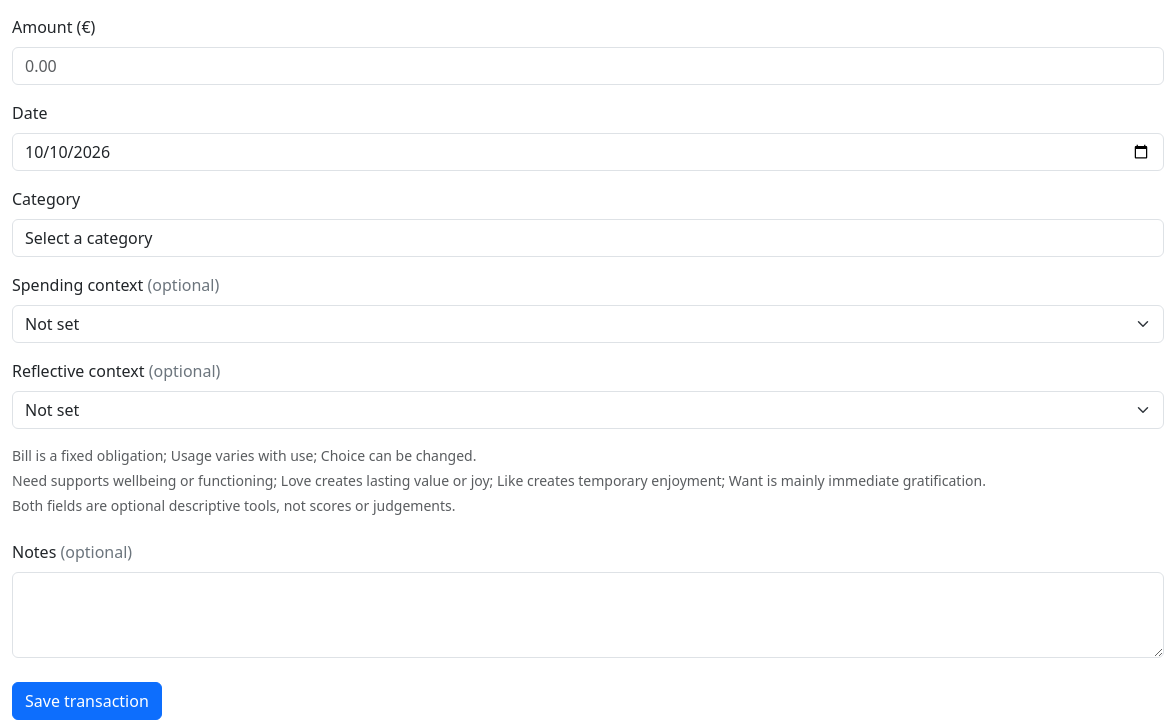
Test: TransactionForm › shows accessible client validation errors for required fields
(page scrolled)
What coordinates should you click on to do the following:
click the button "Save transaction"
I would click on:
 (87, 701)
Its box is [12,682,162,719].
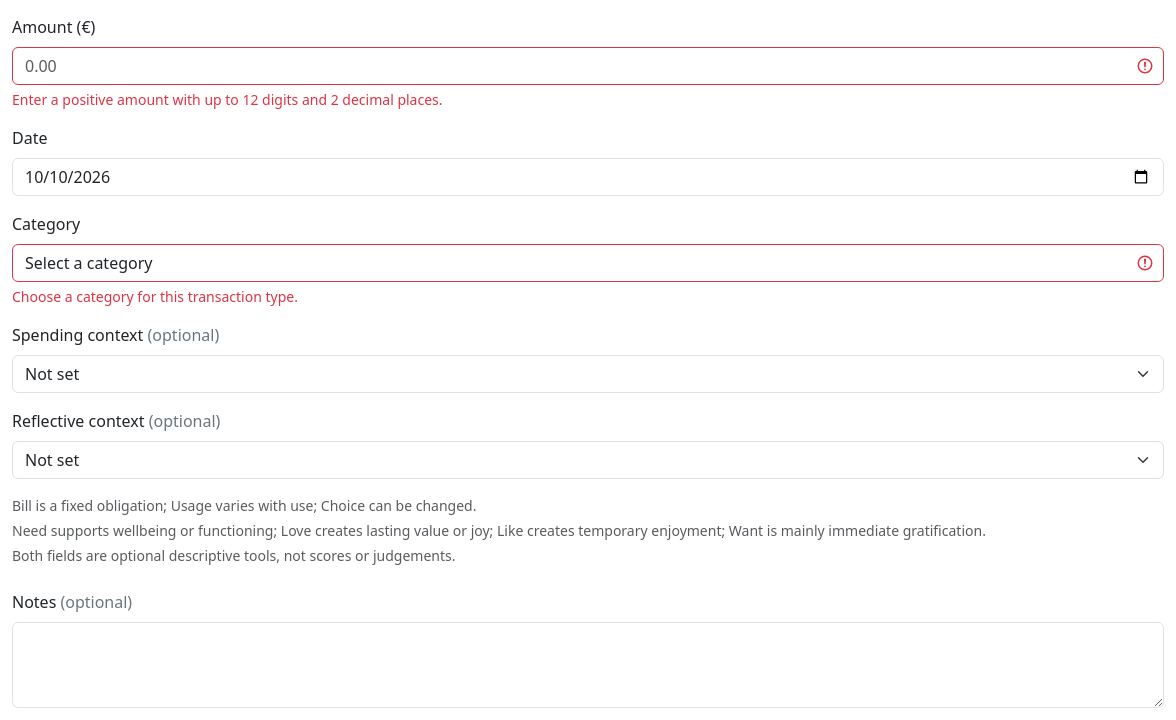
Now the text "Enter a positive amount with up to 12 digits and 2 decimal places." is shown, box [12,90,442,109]
